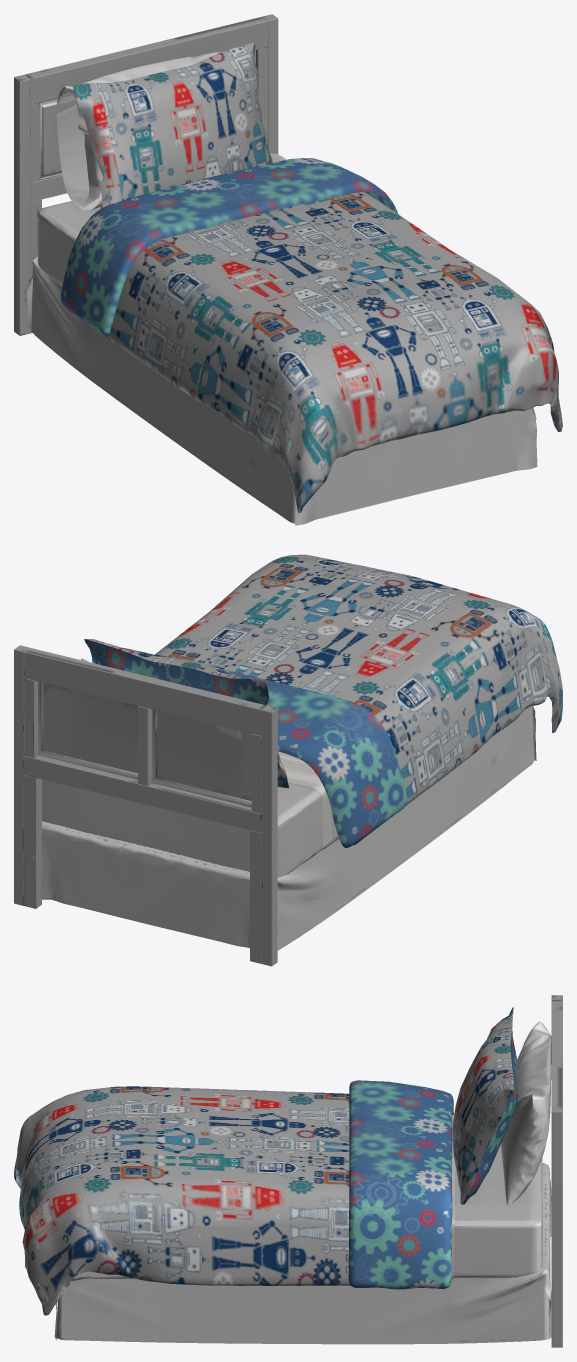
The model's file is raw_model.obj.
The picture shows the model from 3 angles, top to bottom: view 1: azimuth 30°, elevation 25°; view 2: azimuth 150°, elevation 25°; view 3: azimuth 270°, elevation 25°; orthographic projection. The views are drawn at different scales.
Visible parts, largest first — view 1: solid_005, solid_003, solid_006, solid_004, solid_001, solid_008; view 2: solid_005, solid_001, solid_003, solid_004, solid_008, solid_007, solid_009, solid_006; view 3: solid_005, solid_003, solid_004, solid_008, solid_006, solid_001, solid_007, solid_009.
Boxes of the visible parts, x1=… form: solid_005: x1=72, y1=192, x2=562, y2=512; solid_003: x1=27, y1=256, x2=537, y2=525; solid_006: x1=73, y1=42, x2=272, y2=209; solid_004: x1=61, y1=158, x2=398, y2=336; solid_001: x1=14, y1=14, x2=278, y2=335; solid_008: x1=37, y1=47, x2=285, y2=286; solid_005: x1=155, y1=554, x2=562, y2=844; solid_001: x1=14, y1=645, x2=277, y2=966; solid_003: x1=41, y1=706, x2=536, y2=950; solid_004: x1=155, y1=654, x2=407, y2=847; solid_008: x1=42, y1=658, x2=323, y2=877; solid_007: x1=84, y1=639, x2=288, y2=788; solid_009: x1=278, y1=751, x2=338, y2=850; solid_006: x1=85, y1=639, x2=287, y2=780; solid_005: x1=14, y1=1086, x2=350, y2=1315; solid_003: x1=54, y1=1163, x2=551, y2=1344; solid_004: x1=348, y1=1080, x2=453, y2=1289; solid_008: x1=453, y1=1021, x2=551, y2=1277; solid_006: x1=452, y1=1007, x2=513, y2=1204; solid_001: x1=551, y1=995, x2=562, y2=1347; solid_007: x1=465, y1=1013, x2=518, y2=1203; solid_009: x1=71, y1=1115, x2=455, y2=1280.
Size of the model in its own units: 1.17 by 0.9435 by 1.97.
1 material, 1 textured.
